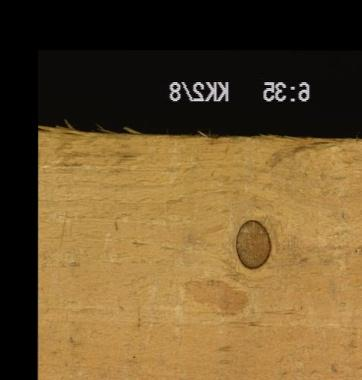dry_knot: (234, 217, 272, 268)
